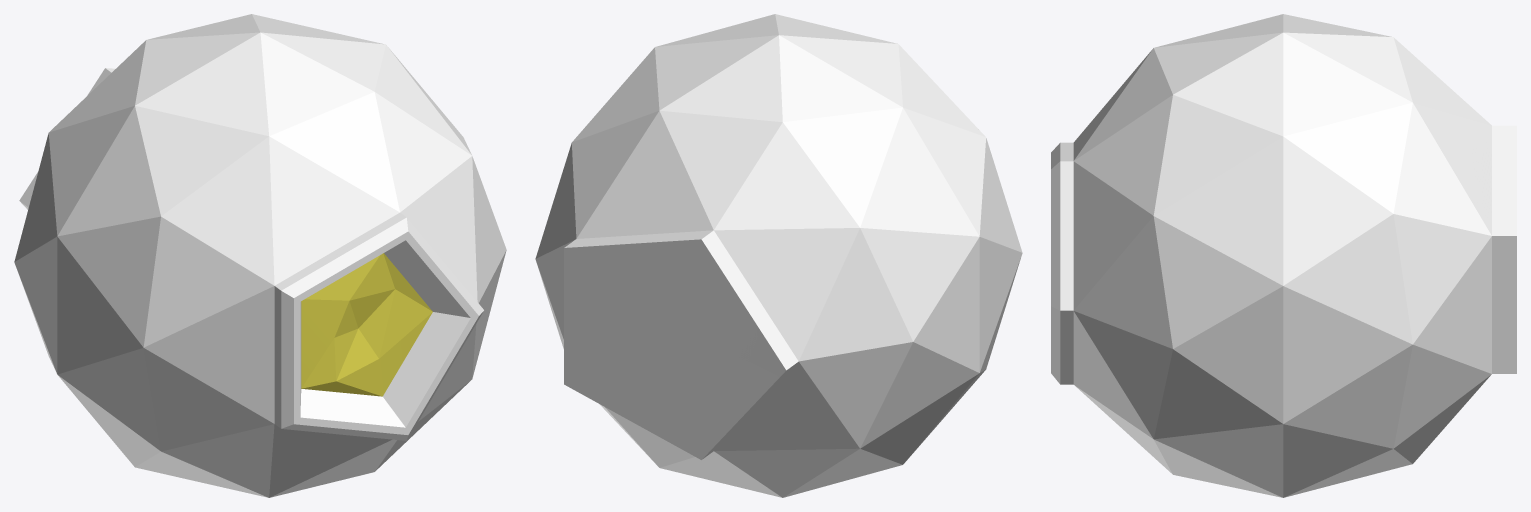
File: BowlDrip.glb
3 renders of one model, left to right at view 1: azimuth 30°, elevation 25°; view 2: azimuth 150°, elevation 25°; view 3: azimuth 270°, elevation 25°, orthographic.
Visible parts, largest first — view 1: BowlDrip; view 2: BowlDrip; view 3: BowlDrip.
Part boxes in pixels (x1,y1,x2,y2): BowlDrip: (14,14,506,497); BowlDrip: (535,14,1022,497); BowlDrip: (1051,14,1516,497).
Bounding box in the file's own units: 0.8244 × 0.8668 × 0.8192.
1 material, 1 textured.
